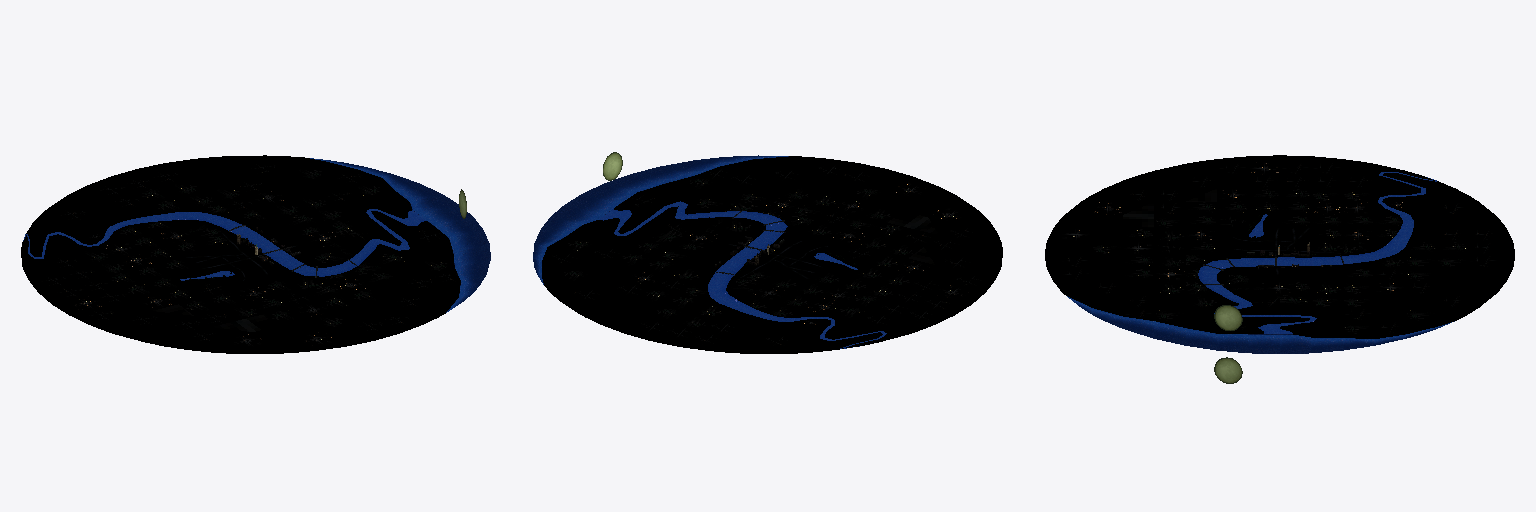
3 views of the same model, side by side, from view 1: azimuth 30°, elevation 25°; view 2: azimuth 150°, elevation 25°; view 3: azimuth 270°, elevation 25° (orthographic).
Parts seen in each view (by area): view 1: map; view 2: map; view 3: map.
Boxes of the visible parts, box(x1,y1,x2,y2) form: map: box(21, 155, 490, 353); map: box(533, 152, 1002, 353); map: box(1045, 155, 1514, 383).
Bounding box in the file's own units: 600000 × 115742 × 600000.
Materials: 78 (77 with a texture image).